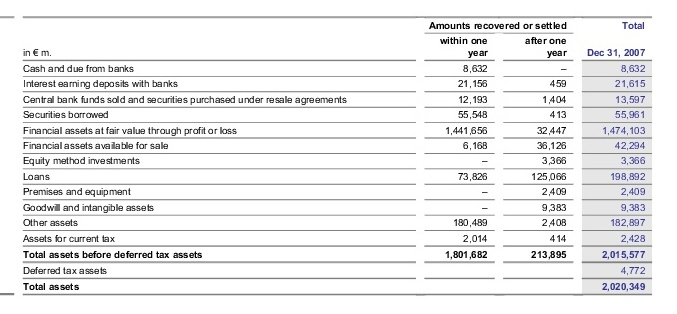table: (0, 0, 677, 314)
